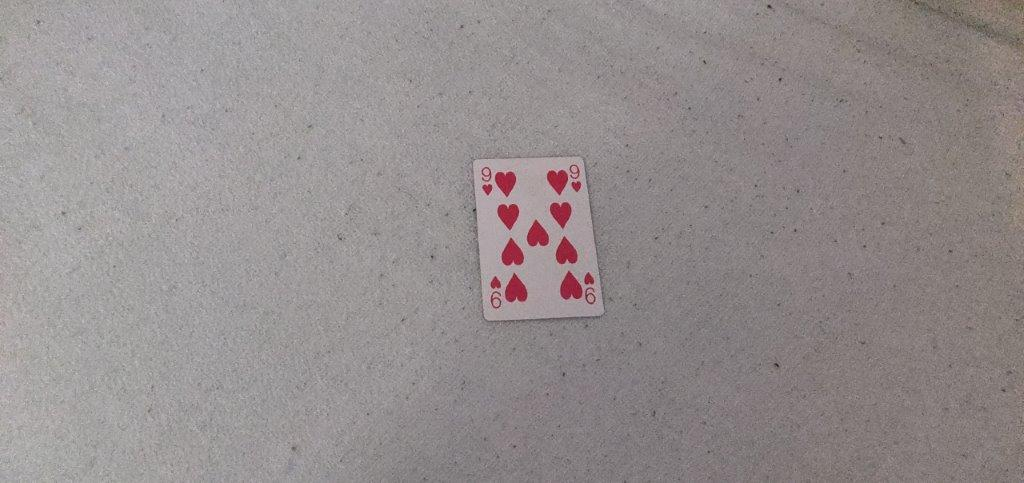9H: (564, 162, 586, 197), (477, 165, 496, 201)
